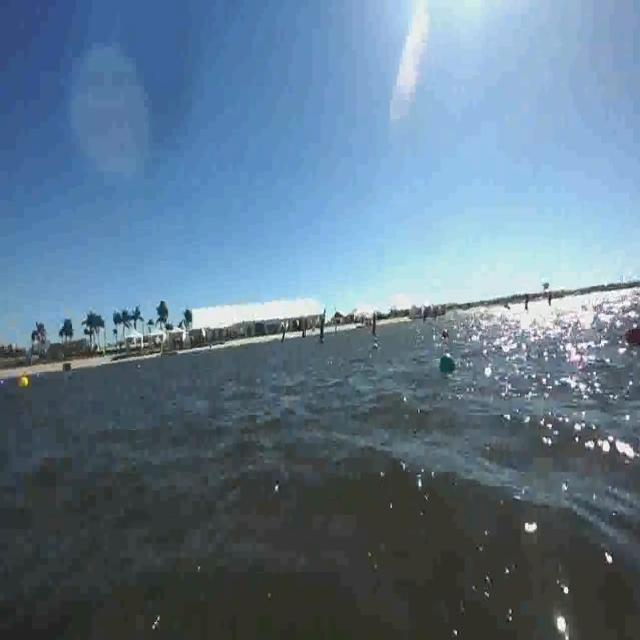green-buoy: (440, 351, 458, 375)
yellow-buoy: (20, 374, 32, 390)
